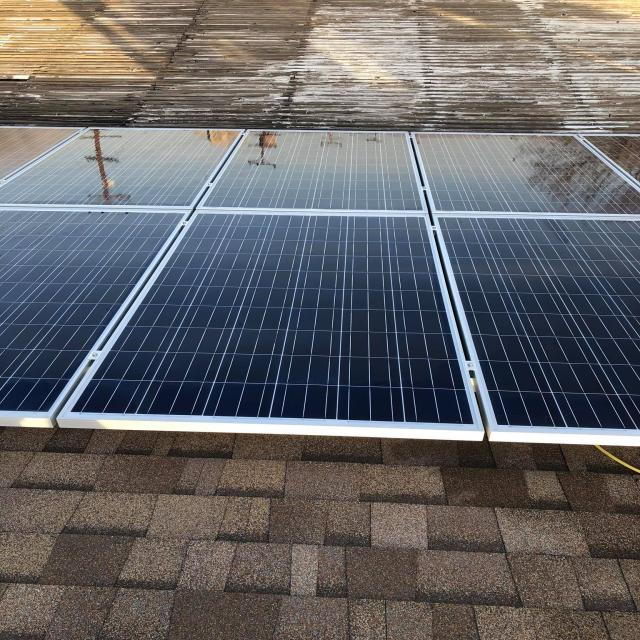clean-solar-panel: (440, 218, 638, 430)
